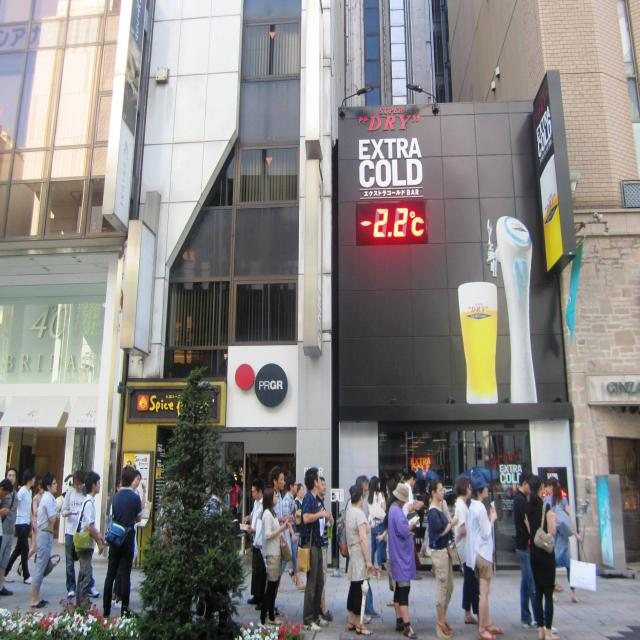body: (156, 464, 244, 629), (335, 473, 381, 625), (542, 476, 597, 603), (464, 472, 504, 640), (102, 463, 143, 623), (295, 466, 330, 634), (426, 478, 462, 640), (524, 473, 558, 640), (387, 481, 422, 639), (343, 484, 379, 636), (254, 486, 291, 632), (525, 474, 558, 634), (61, 471, 100, 599), (72, 470, 105, 608), (29, 470, 60, 610), (3, 468, 37, 585), (454, 476, 480, 626), (239, 477, 268, 605), (261, 466, 285, 616), (276, 475, 306, 594), (420, 479, 454, 577), (375, 478, 398, 607), (16, 478, 46, 576), (0, 466, 20, 598), (316, 476, 334, 621), (402, 470, 425, 580), (366, 475, 386, 581), (287, 483, 305, 584), (0, 476, 14, 596), (128, 469, 146, 513), (110, 478, 122, 516), (394, 468, 405, 483)
